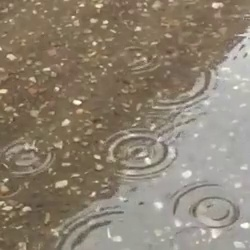drop: (102, 127, 179, 183), (172, 181, 240, 232), (57, 208, 132, 250), (153, 65, 217, 108), (4, 137, 52, 175), (122, 44, 160, 74), (1, 171, 23, 197)
